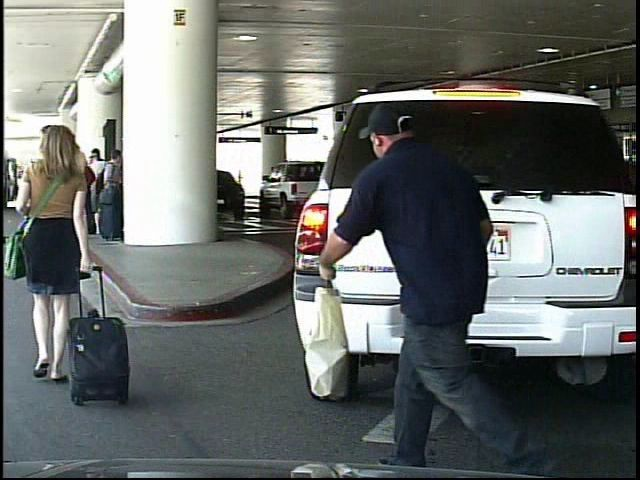person: (332, 90, 510, 470), (4, 122, 108, 413)
